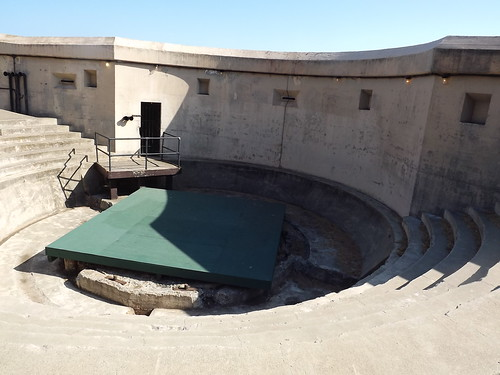building: (3, 28, 500, 216)
sky: (1, 1, 498, 32)
